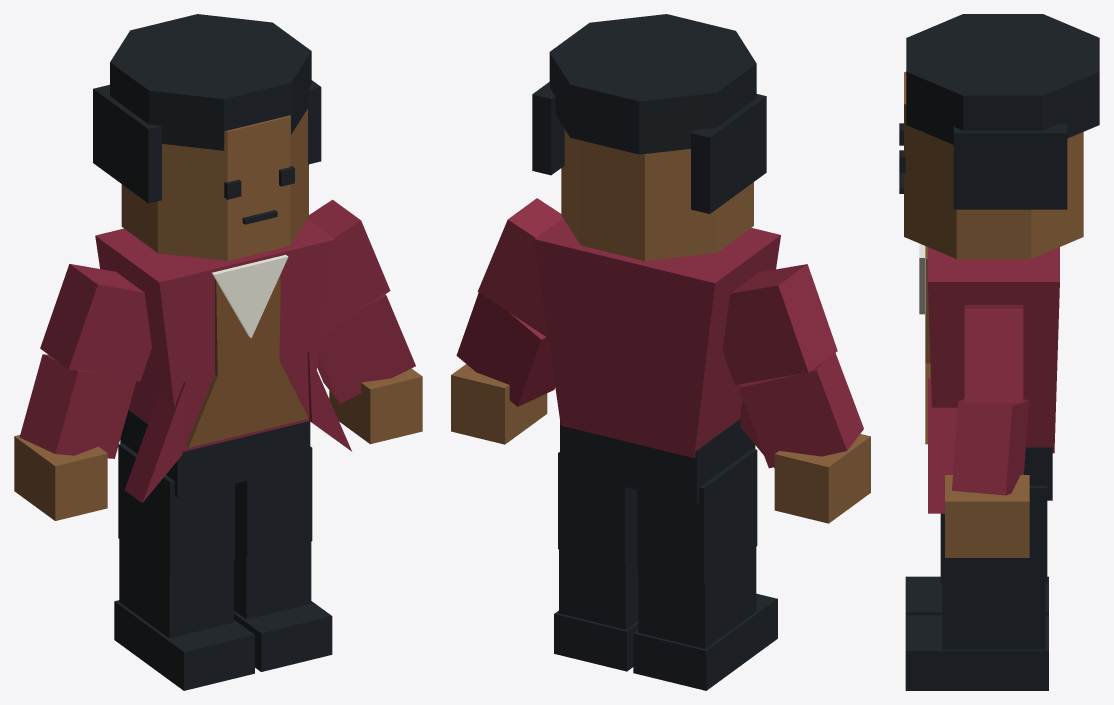
File: Burr.glb
3 views of the same model, side by side, from view 1: azimuth 30°, elevation 25°; view 2: azimuth 150°, elevation 25°; view 3: azimuth 270°, elevation 25° (orthographic). The views are drawn at different scales.
Visible parts, largest first — view 1: Body_M_CastV02_black_1d2228, Body_M_CastV02_burgundy_8e2c42, Body_M_CastV02_darkSkin_90653c, Body, Body_M_CastV02_white_f9f7ea; view 2: Body_M_CastV02_black_1d2228, Body_M_CastV02_burgundy_8e2c42, Body_M_CastV02_darkSkin_90653c; view 3: Body_M_CastV02_black_1d2228, Body_M_CastV02_burgundy_8e2c42, Body_M_CastV02_darkSkin_90653c, Body, Body_M_CastV02_white_f9f7ea.
Part boxes in pixels (box(x1,y1,x2,y2)): Body_M_CastV02_black_1d2228: box(93, 14, 332, 690); Body_M_CastV02_burgundy_8e2c42: box(19, 199, 415, 502); Body_M_CastV02_darkSkin_90653c: box(14, 109, 422, 520); Body: box(186, 274, 308, 447); Body_M_CastV02_white_f9f7ea: box(212, 254, 288, 338); Body_M_CastV02_black_1d2228: box(532, 14, 777, 690); Body_M_CastV02_burgundy_8e2c42: box(456, 198, 863, 468); Body_M_CastV02_darkSkin_90653c: box(451, 129, 870, 523); Body_M_CastV02_black_1d2228: box(899, 14, 1099, 690); Body_M_CastV02_burgundy_8e2c42: box(928, 247, 1059, 513); Body_M_CastV02_darkSkin_90653c: box(904, 71, 1083, 557); Body: box(925, 246, 930, 444); Body_M_CastV02_white_f9f7ea: box(919, 243, 924, 314).
Size of the model in its own units: 1.23 by 1.8 by 0.5463.
